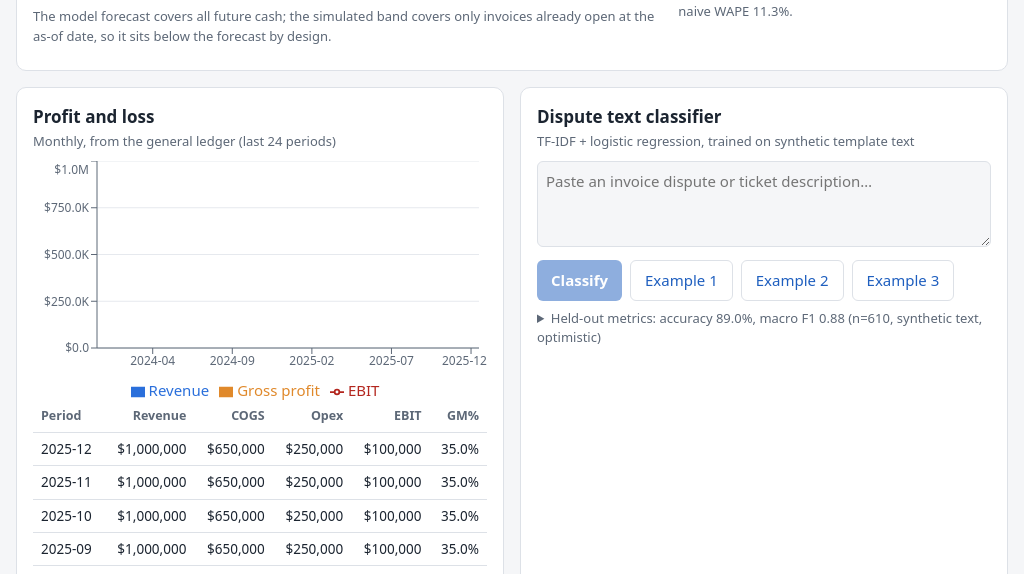
Test: dashboard › shows an error when classification fails
(page scrolled)
Step 1. Type "damaged goods on arrival" into the text box with placeholder "Paste an invoice dispute or ticket description…" → (764, 204), box left=537, top=161, right=991, bottom=247
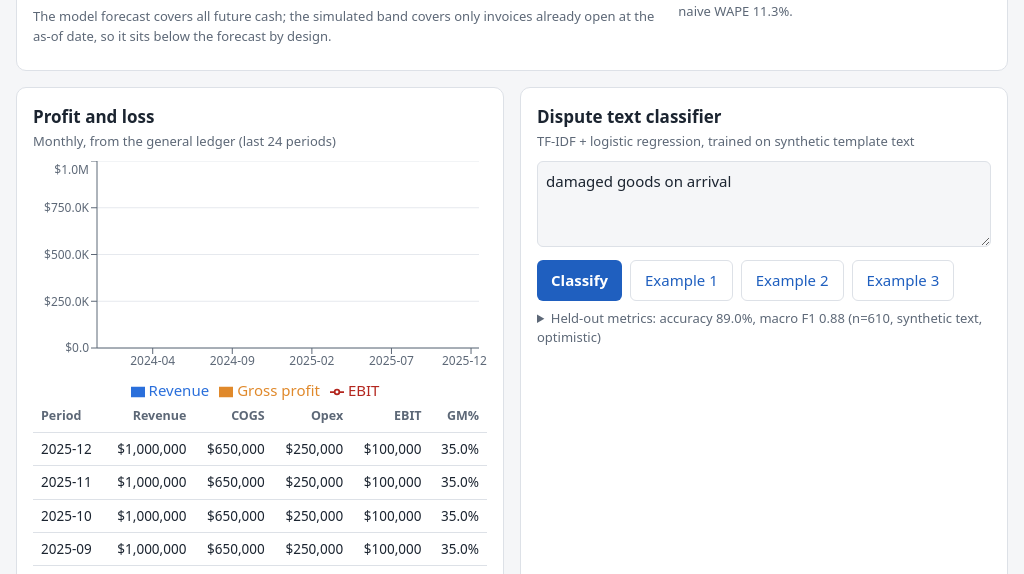
Step 2. Click the button "Classify" → (580, 281), box left=537, top=260, right=622, bottom=301
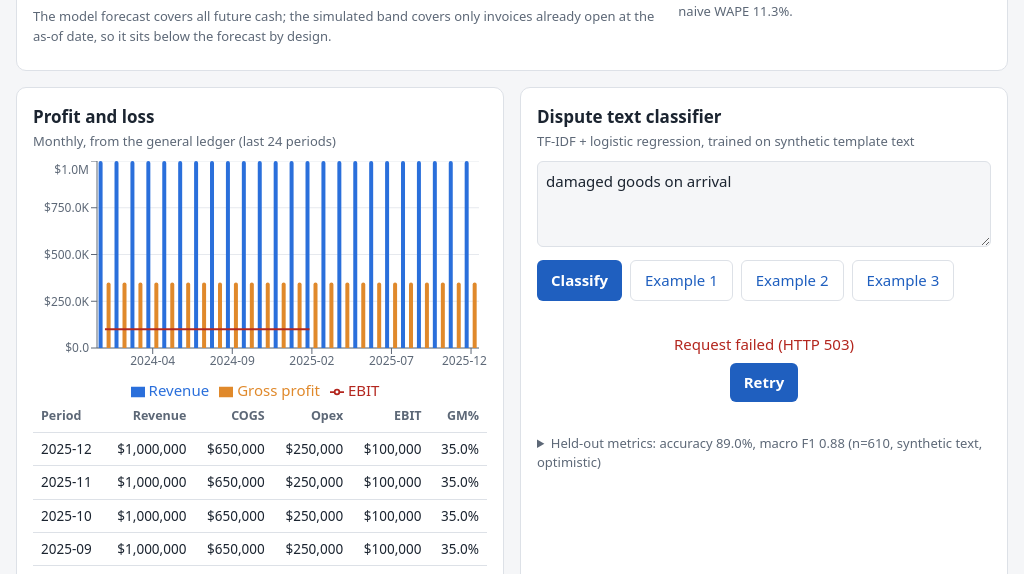
Result: the text "Request failed (HTTP 503)" is shown at left=674, top=334, right=854, bottom=354
